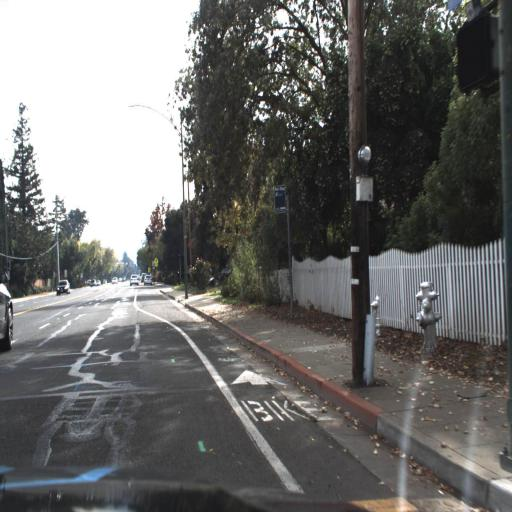car: (0, 254, 17, 373), (53, 274, 73, 298), (127, 268, 141, 288), (142, 270, 156, 286)
